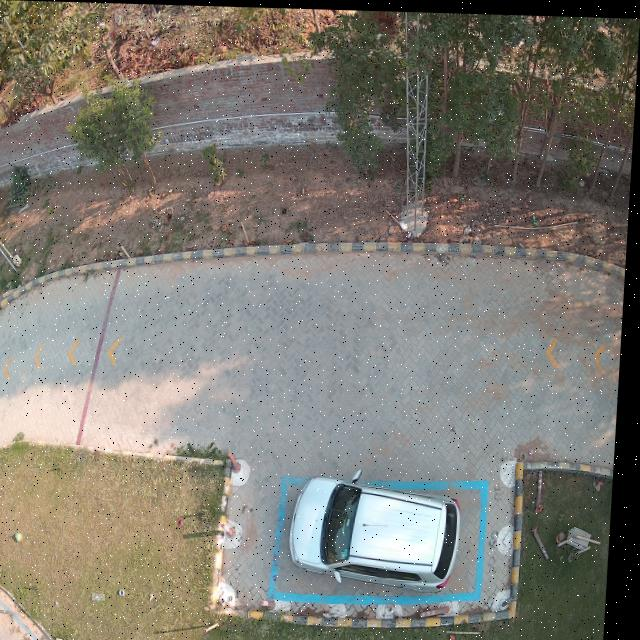car: (296, 469, 467, 589)
